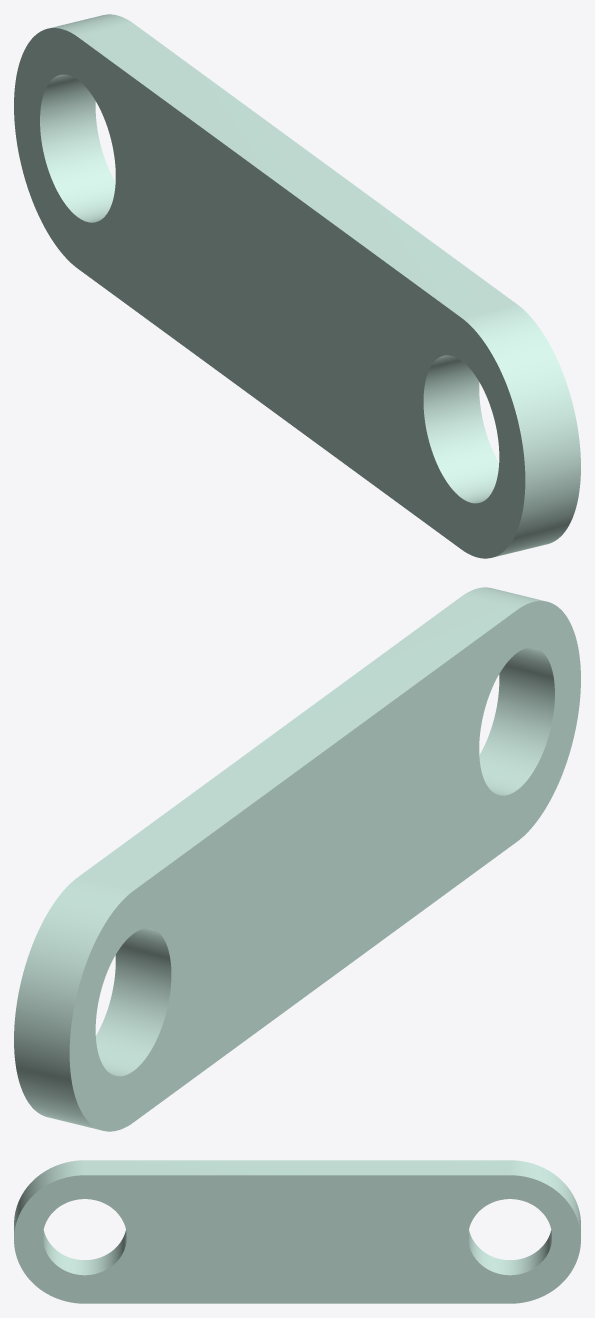
File: expected.gltf
The picture shows the model from 3 angles, top to bottom: view 1: azimuth 30°, elevation 25°; view 2: azimuth 150°, elevation 25°; view 3: azimuth 270°, elevation 25°; orthographic projection. The views are drawn at different scales.
Parts seen in each view (by area): view 1: Renderer Node; view 2: Renderer Node; view 3: Renderer Node.
Part boxes in pixels (x1,y1,x2,y2): Renderer Node: [14, 14, 580, 558]; Renderer Node: [14, 587, 580, 1131]; Renderer Node: [14, 1160, 580, 1303].
Size of the model in its own units: 0.0938 by 0.373 by 1.49.
